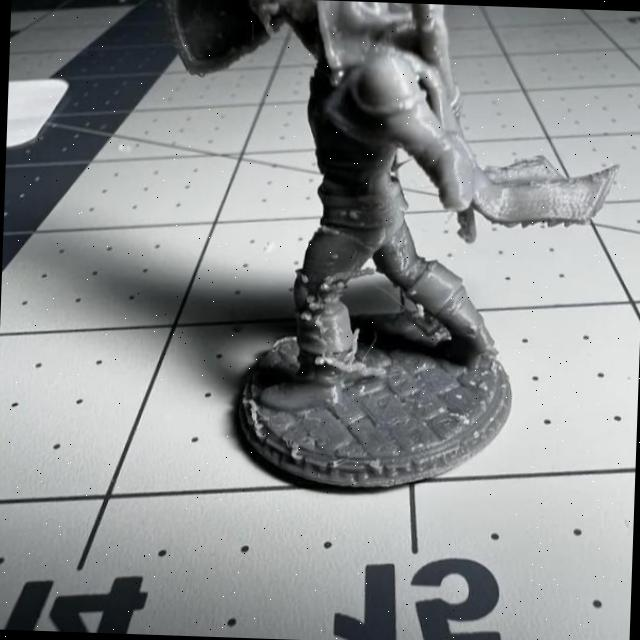blobs: (344, 202, 364, 222), (292, 270, 313, 288), (305, 296, 323, 314), (312, 316, 328, 331), (333, 278, 348, 293), (316, 280, 331, 294), (313, 354, 326, 367), (406, 286, 419, 299), (298, 311, 310, 324), (329, 249, 342, 260)
